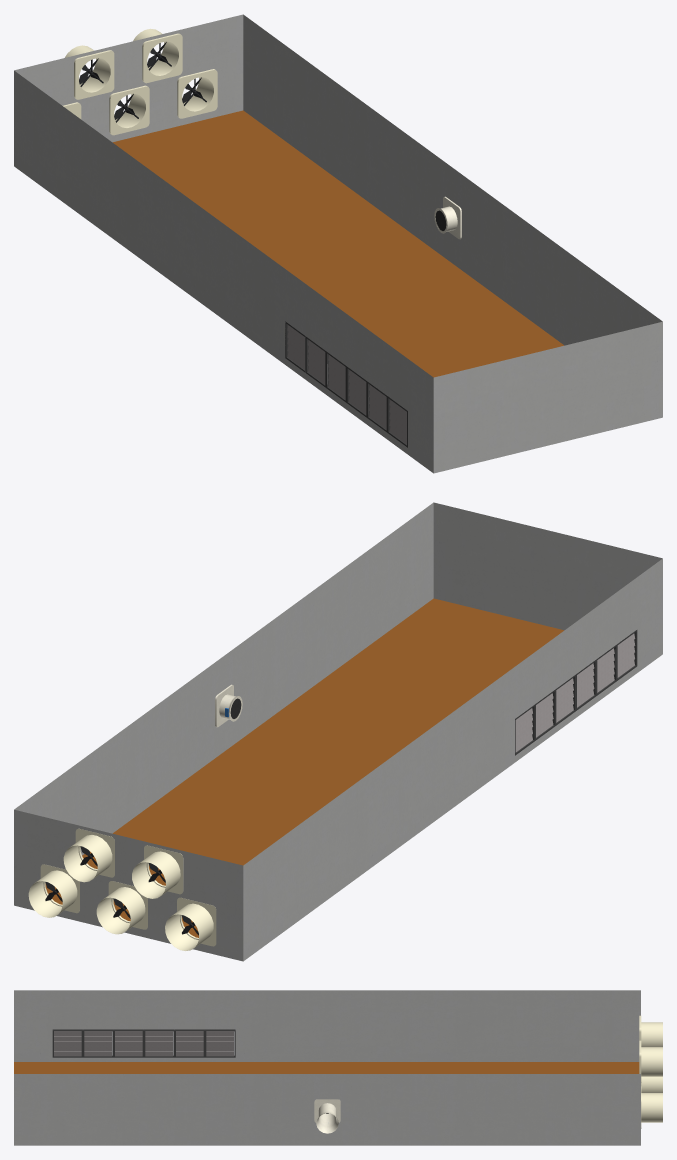
3 views of the same model, one above another, from view 1: azimuth 30°, elevation 25°; view 2: azimuth 150°, elevation 25°; view 3: azimuth 270°, elevation 25° (orthographic). The views are drawn at different scales.
Visible parts, largest first — view 1: Floor, Wall_Left, Wall_Right, Wall_Font, Wall_Back, DA 17K System, BF55 Gable Fans_3, BF55 Gable Fans_4, BF55 Gable Fans_5, BF55 Gable Fans_1, DA 17K System_Plane, DA 820; view 2: Floor, Wall_Left, Wall_Right, Wall_Font, Wall_Back, DA 17K System, BF55 Gable Fans_3, BF55 Gable Fans_2, BF55 Gable Fans_4, BF55 Gable Fans_5, BF55 Gable Fans_1, DA 17K System_Plane (+1 smaller); view 3: Wall_Right, Wall_Left, Floor, DA 17K System, DA 820, DA 17K System_Plane, BF55 Gable Fans_4, BF55 Gable Fans_1, BF55 Gable Fans_3, BF55 Gable Fans_5.
Boxes of the visible parts, x1,y1,x2,y2 form: Floor: (113, 110, 563, 377); Wall_Left: (14, 70, 433, 473); Wall_Right: (243, 14, 662, 345); Wall_Font: (433, 321, 662, 473); Wall_Back: (14, 14, 243, 142); DA 17K System: (285, 321, 407, 447); BF55 Gable Fans_3: (65, 45, 114, 99); BF55 Gable Fans_4: (133, 28, 182, 83); BF55 Gable Fans_5: (109, 85, 149, 135); BF55 Gable Fans_1: (177, 69, 217, 118); DA 17K System_Plane: (287, 325, 406, 417); DA 820: (434, 196, 461, 239); Floor: (45, 598, 563, 937); Wall_Left: (243, 558, 662, 961); Wall_Right: (14, 502, 433, 855); Wall_Font: (433, 502, 662, 630); Wall_Back: (14, 809, 243, 961); DA 17K System: (515, 630, 637, 755); BF55 Gable Fans_3: (132, 845, 183, 898); BF55 Gable Fans_2: (165, 897, 216, 950); BF55 Gable Fans_4: (63, 828, 114, 882); BF55 Gable Fans_5: (96, 881, 147, 934); BF55 Gable Fans_1: (28, 864, 79, 917); DA 17K System_Plane: (515, 633, 635, 725); Wall_Right: (14, 1074, 640, 1145); Wall_Left: (14, 990, 640, 1061); Floor: (14, 1062, 639, 1073); DA 17K System: (52, 1029, 235, 1057); DA 820: (314, 1099, 340, 1133); DA 17K System_Plane: (54, 1031, 233, 1035); BF55 Gable Fans_4: (639, 1040, 662, 1082); BF55 Gable Fans_1: (641, 1086, 662, 1128); BF55 Gable Fans_3: (639, 1015, 662, 1046); BF55 Gable Fans_5: (641, 1076, 662, 1092).
Bounding box in the file's own units: 91.75 × 32 × 262.
5 materials, 4 textured.
